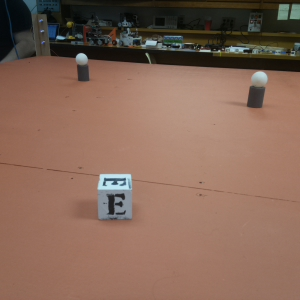blockE: (97, 174, 134, 221)
corner: (32, 14, 51, 56)
obstacle: (247, 70, 267, 110), (74, 53, 90, 82)
